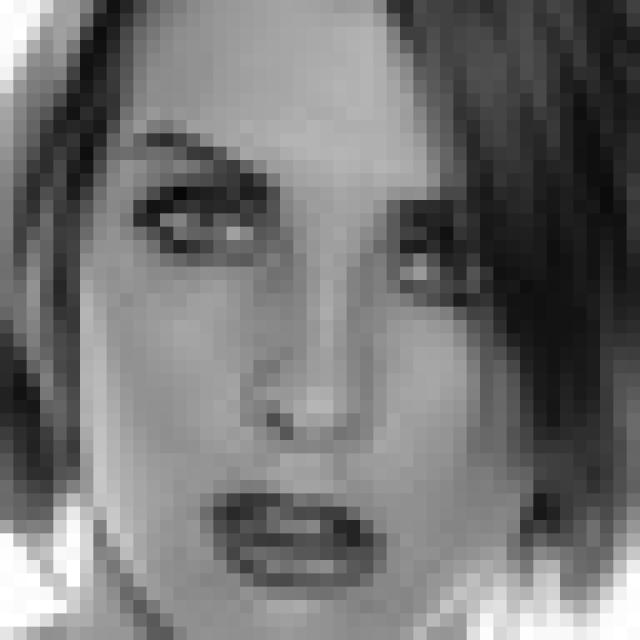disgust: (123, 127, 510, 599)
